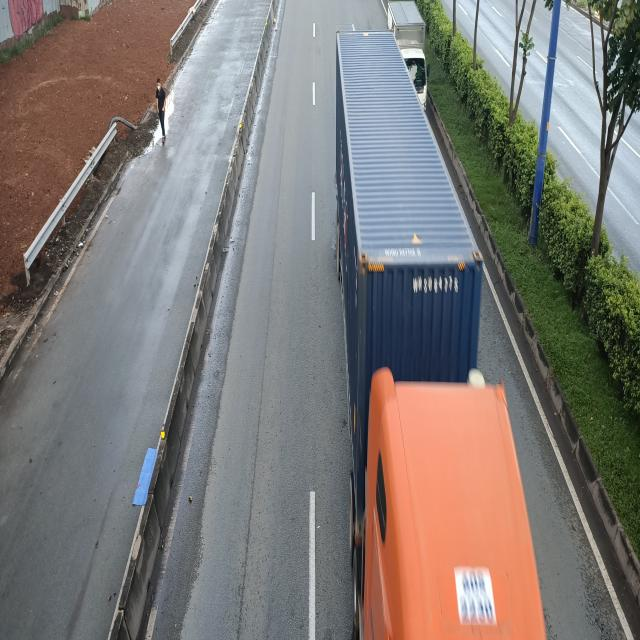container: (334, 30, 542, 636)
